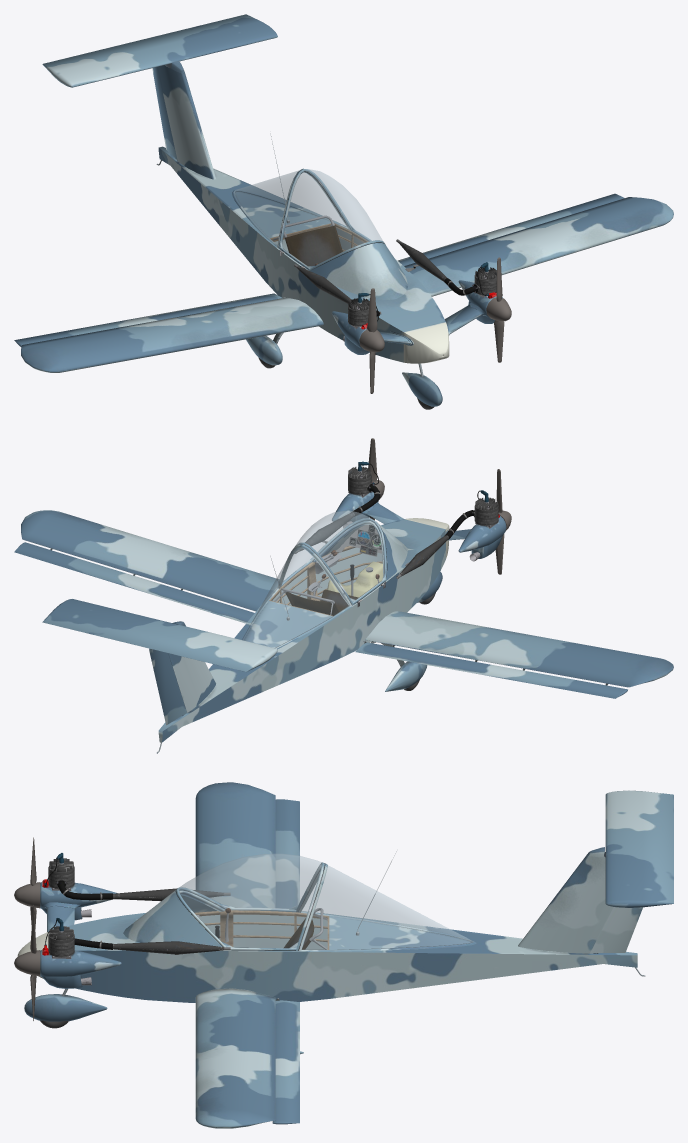
File: cricri.glb
3 views of the same model, one above another, from view 1: azimuth 30°, elevation 25°; view 2: azimuth 150°, elevation 25°; view 3: azimuth 270°, elevation 25° (orthographic). The views are drawn at different scales.
Visible parts, largest first — view 1: body, canopy, cockpit, elev, ail_r, ail_l, prop_l, prop_r; view 2: body, cockpit, canopy, elev, ail_r, ail_l, prop_r; view 3: body, canopy, cockpit, elev, ail_l, ail_r, prop_l, prop_r.
Part boxes in pixels (left/top/right/bottom): body: left=21, top=61, right=673, bottom=406; canopy: left=233, top=169, right=382, bottom=268; cockpit: left=232, top=168, right=502, bottom=354; elev: left=42, top=14, right=277, bottom=87; ail_r: left=14, top=293, right=285, bottom=347; ail_l: left=398, top=193, right=624, bottom=265; prop_l: left=486, top=257, right=511, bottom=362; prop_r: left=359, top=288, right=384, bottom=393; body: left=21, top=503, right=673, bottom=753; cockpit: left=242, top=461, right=506, bottom=648; canopy: left=242, top=510, right=385, bottom=647; elev: left=42, top=599, right=277, bottom=671; ail_r: left=355, top=641, right=627, bottom=698; ail_l: left=14, top=542, right=254, bottom=623; prop_r: left=495, top=469, right=511, bottom=574; body: left=17, top=782, right=645, bottom=1128; canopy: left=178, top=853, right=473, bottom=950; cockpit: left=40, top=853, right=476, bottom=988; elev: left=605, top=790, right=673, bottom=907; ail_l: left=272, top=998, right=299, bottom=1124; ail_r: left=275, top=799, right=299, bottom=908; prop_l: left=14, top=905, right=40, bottom=1020; prop_r: left=14, top=837, right=40, bottom=928.
Bounding box in the file's own units: 7.33 × 1.87 × 5.95.
Materials: 5 (2 with a texture image).
